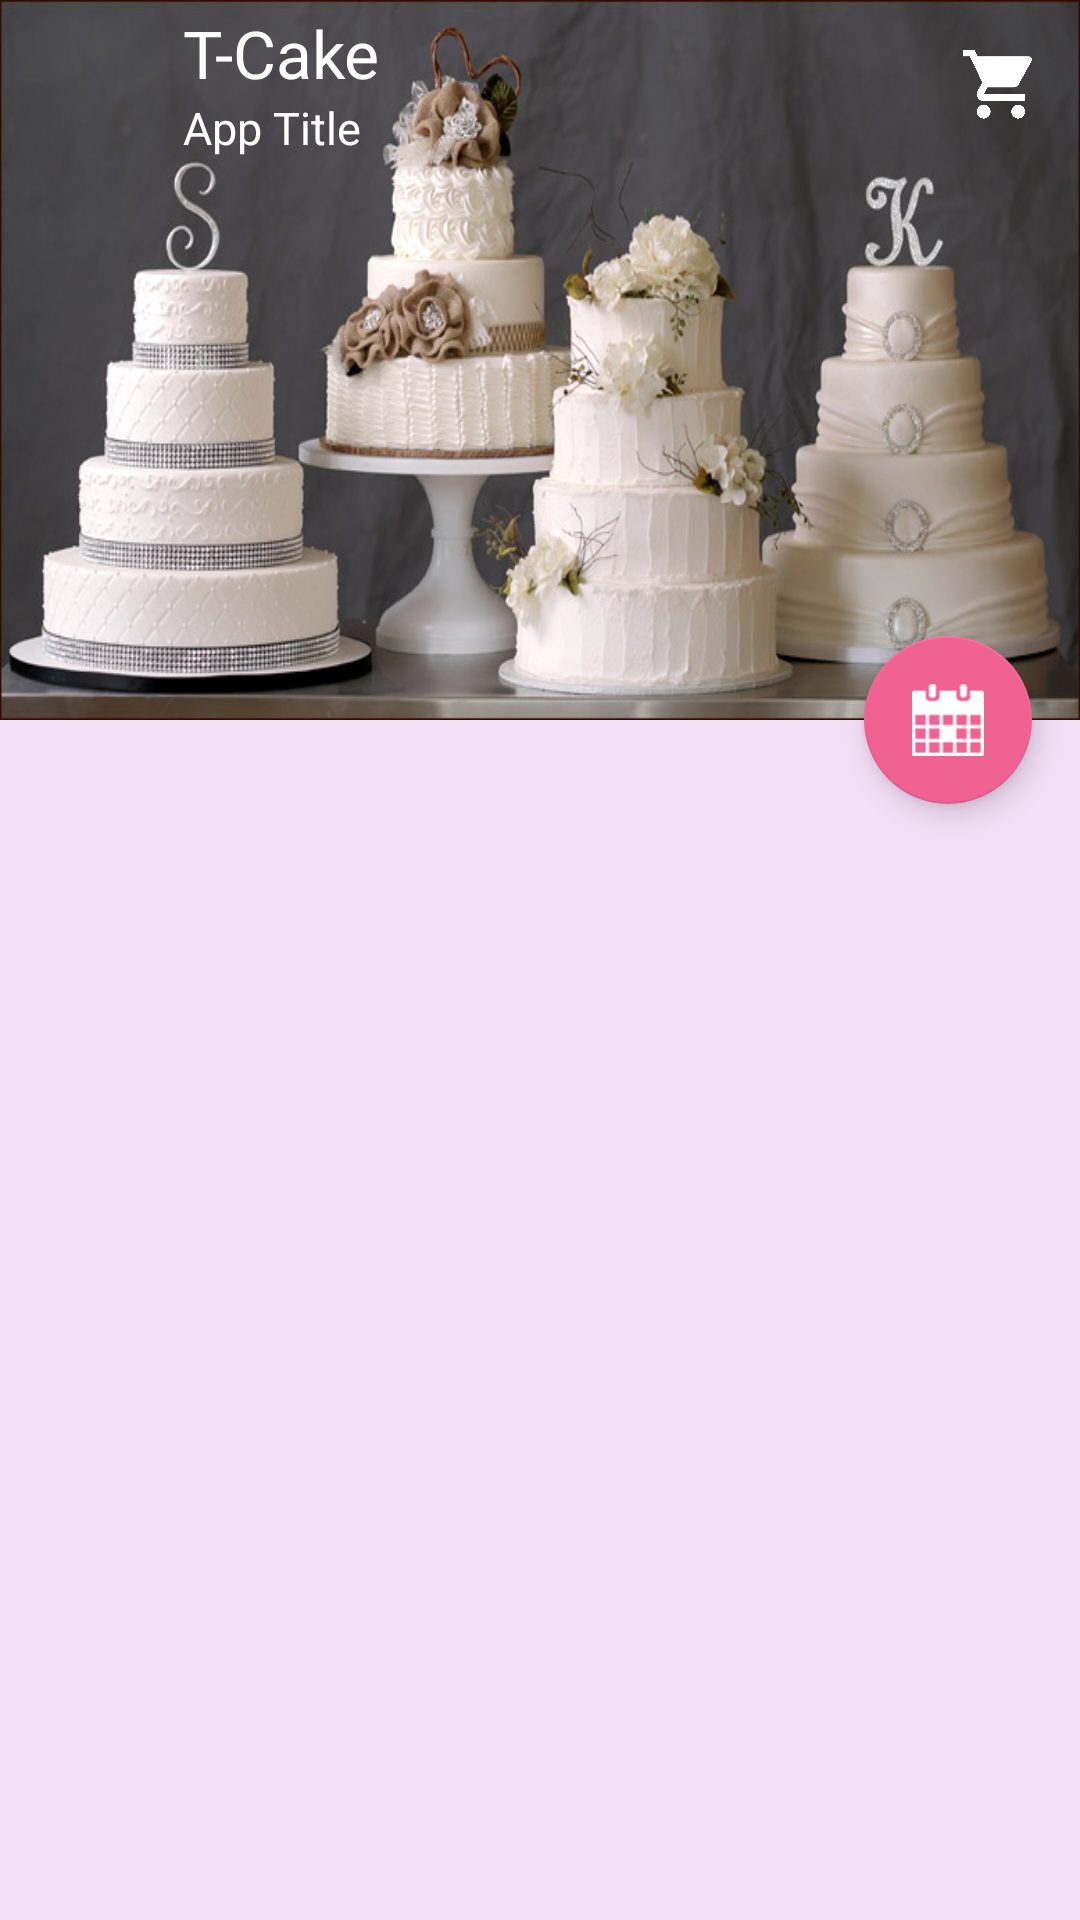

Icon click points for this 1080 × 1920 phone screenshot, format (x,y):
cart: (997,84)
event: (948,720)
